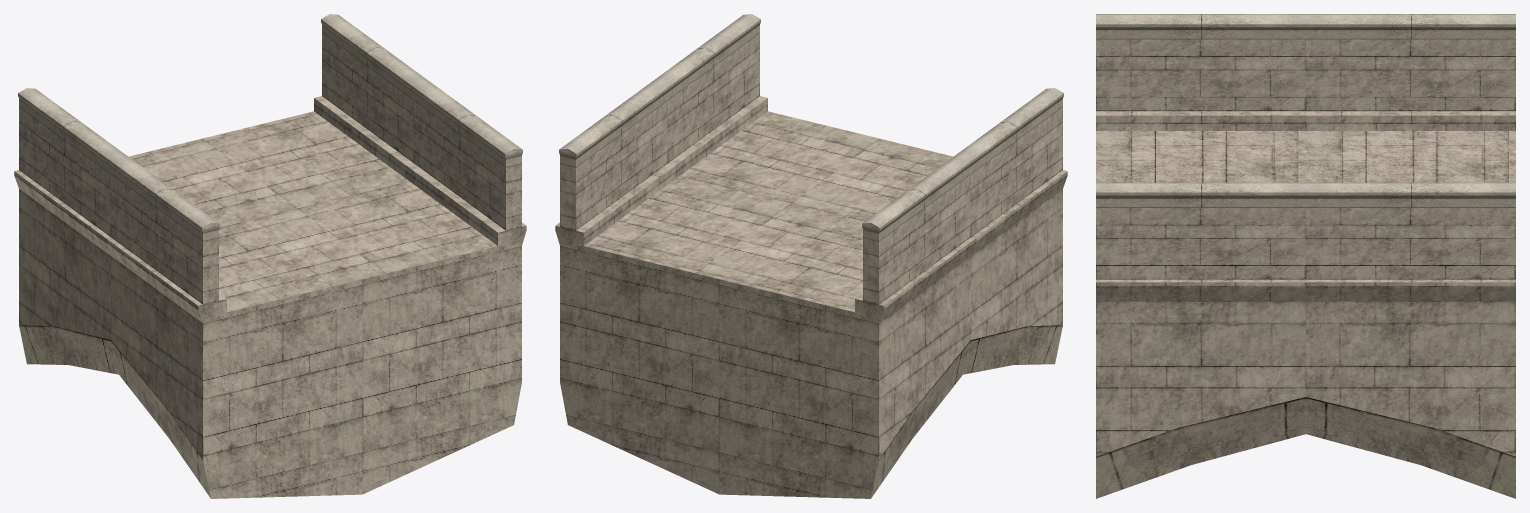
File: DoubleBracingMarble.dae
The picture shows the model from 3 angles, left to right: view 1: azimuth 30°, elevation 25°; view 2: azimuth 150°, elevation 25°; view 3: azimuth 270°, elevation 25°; orthographic projection. The views are drawn at different scales.
Parts seen in each view (by area): view 1: DoubleBracingMarble; view 2: DoubleBracingMarble; view 3: DoubleBracingMarble.
Boxes of the visible parts, x1,y1,x2,y2 form: DoubleBracingMarble: (14,14,526,498); DoubleBracingMarble: (555,14,1067,498); DoubleBracingMarble: (1096,14,1515,498).
Bounding box in the file's own units: 4.12 × 3.7 × 4.
2 materials, 2 textured.
